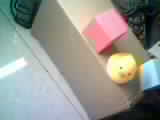duck: (97, 46, 129, 89)
